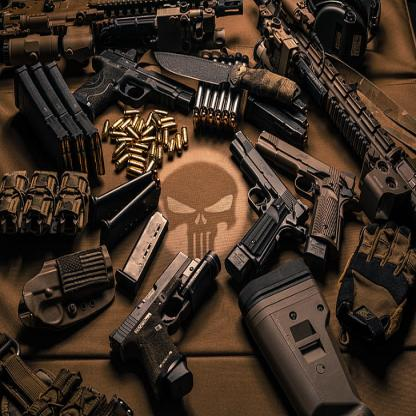Gun: (252, 0, 416, 229), (1, 2, 246, 62)
Knife: (152, 49, 302, 104)
Pistol: (108, 249, 222, 407), (254, 128, 358, 273), (223, 129, 311, 286), (72, 44, 198, 123)
